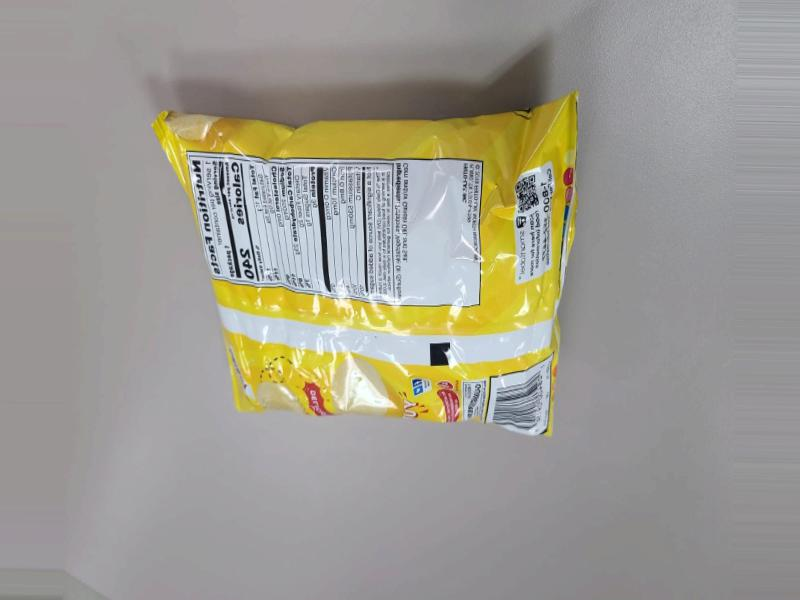lays: (166, 89, 576, 450)
